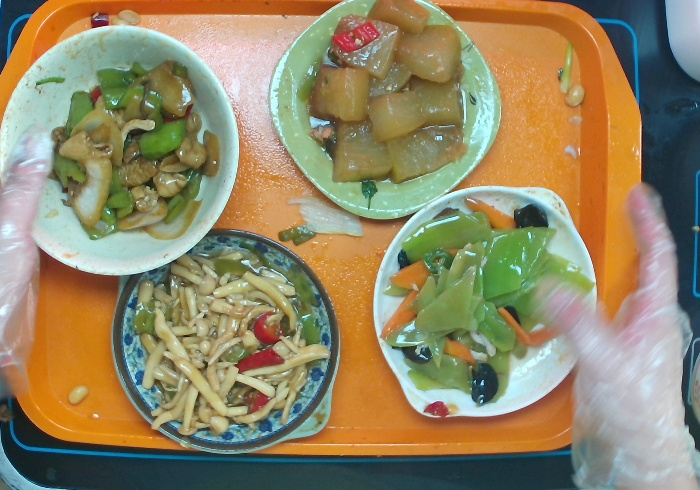NLDX-Bai_Se_Shuang_Er_Die: (370, 182, 598, 427)
NLDX-Bai_Se_Yuan_Wan: (1, 23, 242, 279)
NLDX-Lv_Hua_Fang_Die: (267, 1, 504, 219)
NLDX-Qing_Hua_Shuang_Er_Die: (107, 223, 342, 458)
